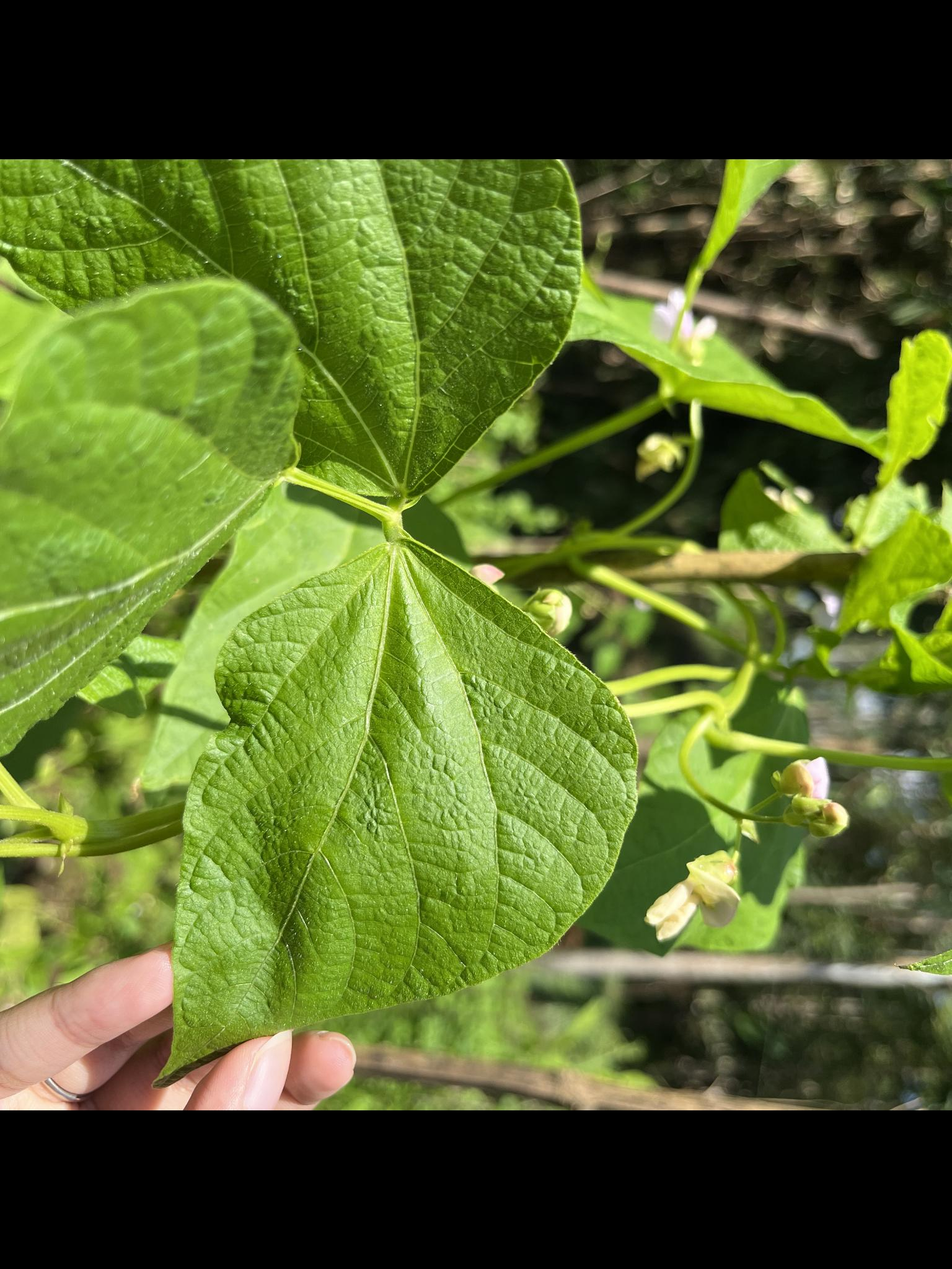sehat: (167, 531, 641, 1078)
